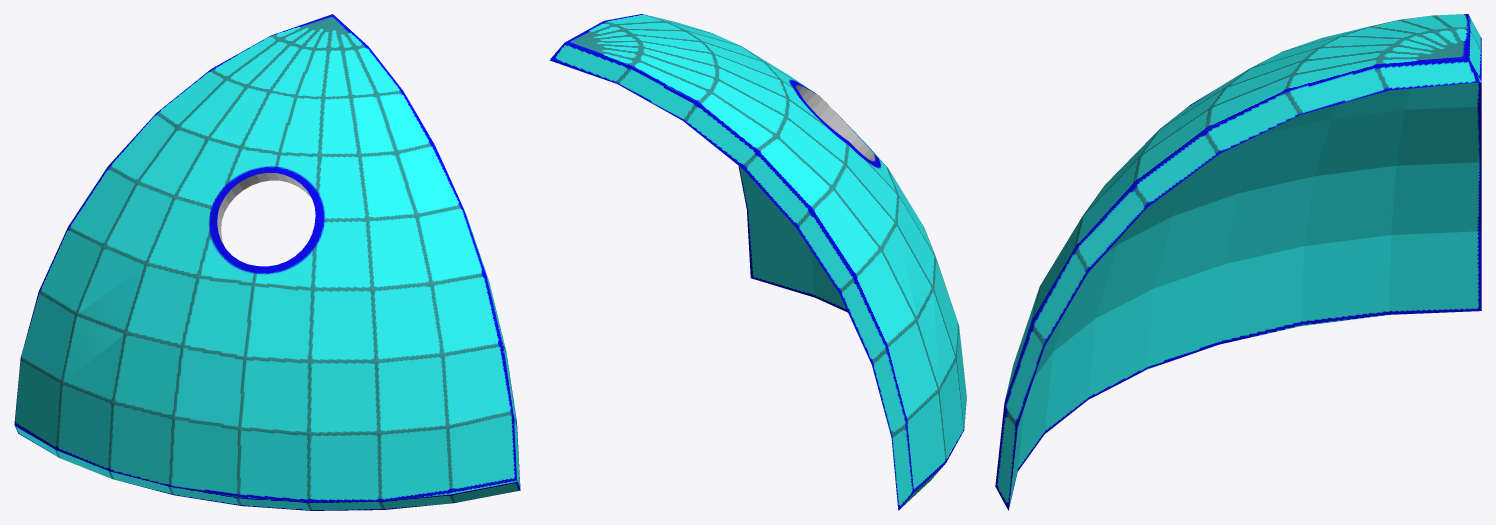
The model's file is 8thSphere_holeV05.gltf.
3 views of the same model, side by side, from view 1: azimuth 30°, elevation 25°; view 2: azimuth 150°, elevation 25°; view 3: azimuth 270°, elevation 25° (orthographic). The views are drawn at different scales.
Visible parts, largest first — view 1: Sphere; view 2: Sphere; view 3: Sphere.
Boxes of the visible parts, x1,y1,x2,y2 form: Sphere: (14, 14, 520, 510); Sphere: (549, 14, 966, 510); Sphere: (995, 14, 1481, 510).
Size of the model in its own units: 1.03 by 1.04 by 1.03.
Materials: 1 (1 with a texture image).
